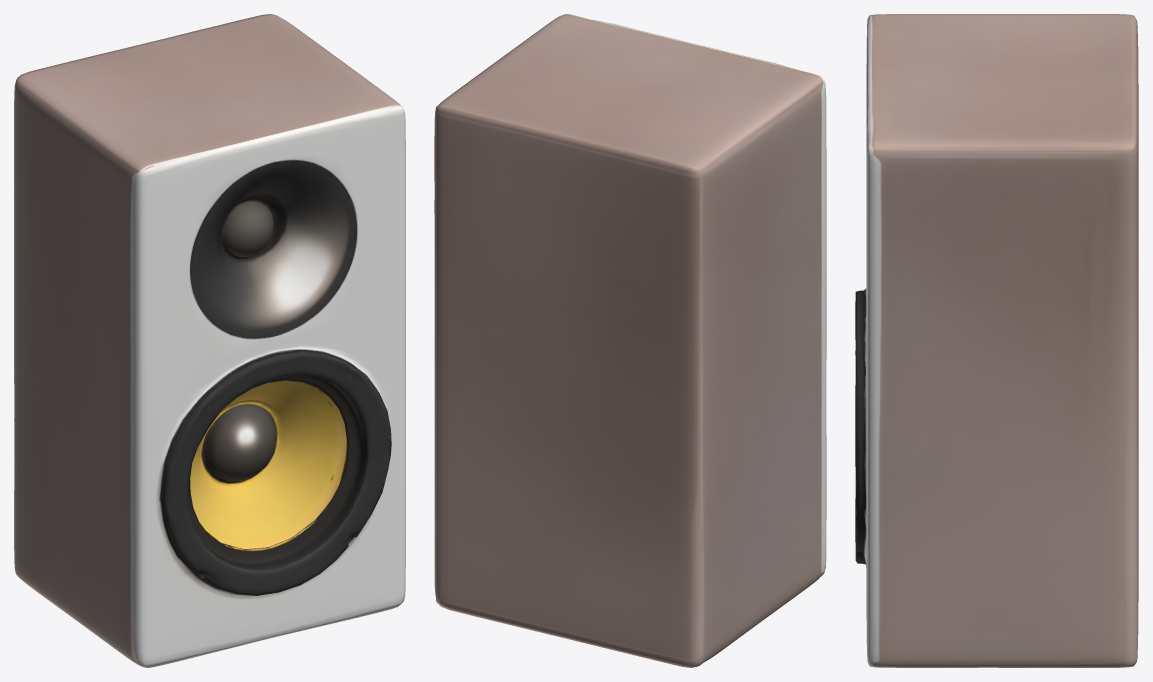
Rendered from Speaker.fbx.
The picture shows the model from 3 angles, left to right: view 1: azimuth 30°, elevation 25°; view 2: azimuth 150°, elevation 25°; view 3: azimuth 270°, elevation 25°; orthographic projection. The views are drawn at different scales.
Visible parts, largest first — view 1: Speaker; view 2: Speaker; view 3: Speaker.
Part boxes in pixels (box(x1,y1,x2,y2)): Speaker: box(14, 14, 405, 667); Speaker: box(434, 14, 826, 667); Speaker: box(855, 14, 1138, 667).
Bounding box in the file's own units: 107 × 190 × 92.74.
